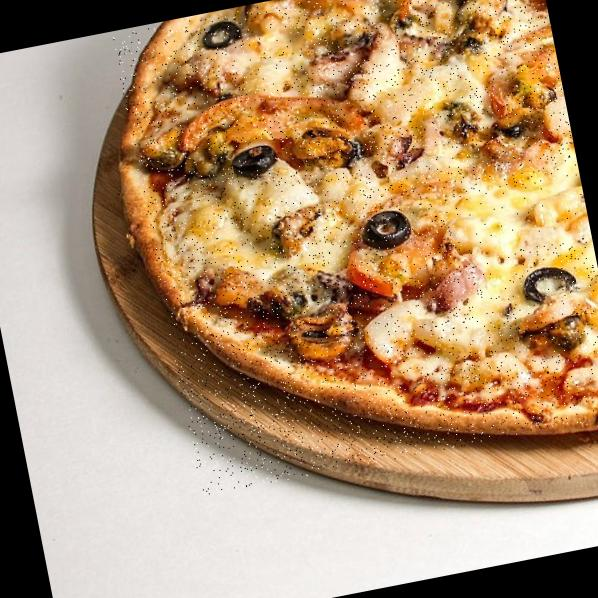Cheese: (451, 174, 591, 260), (171, 186, 272, 270), (372, 56, 464, 111), (252, 9, 308, 88)
Olives: (357, 204, 420, 258), (518, 258, 584, 306), (230, 142, 284, 181), (196, 17, 248, 54)
Pizza: (111, 0, 598, 496)
